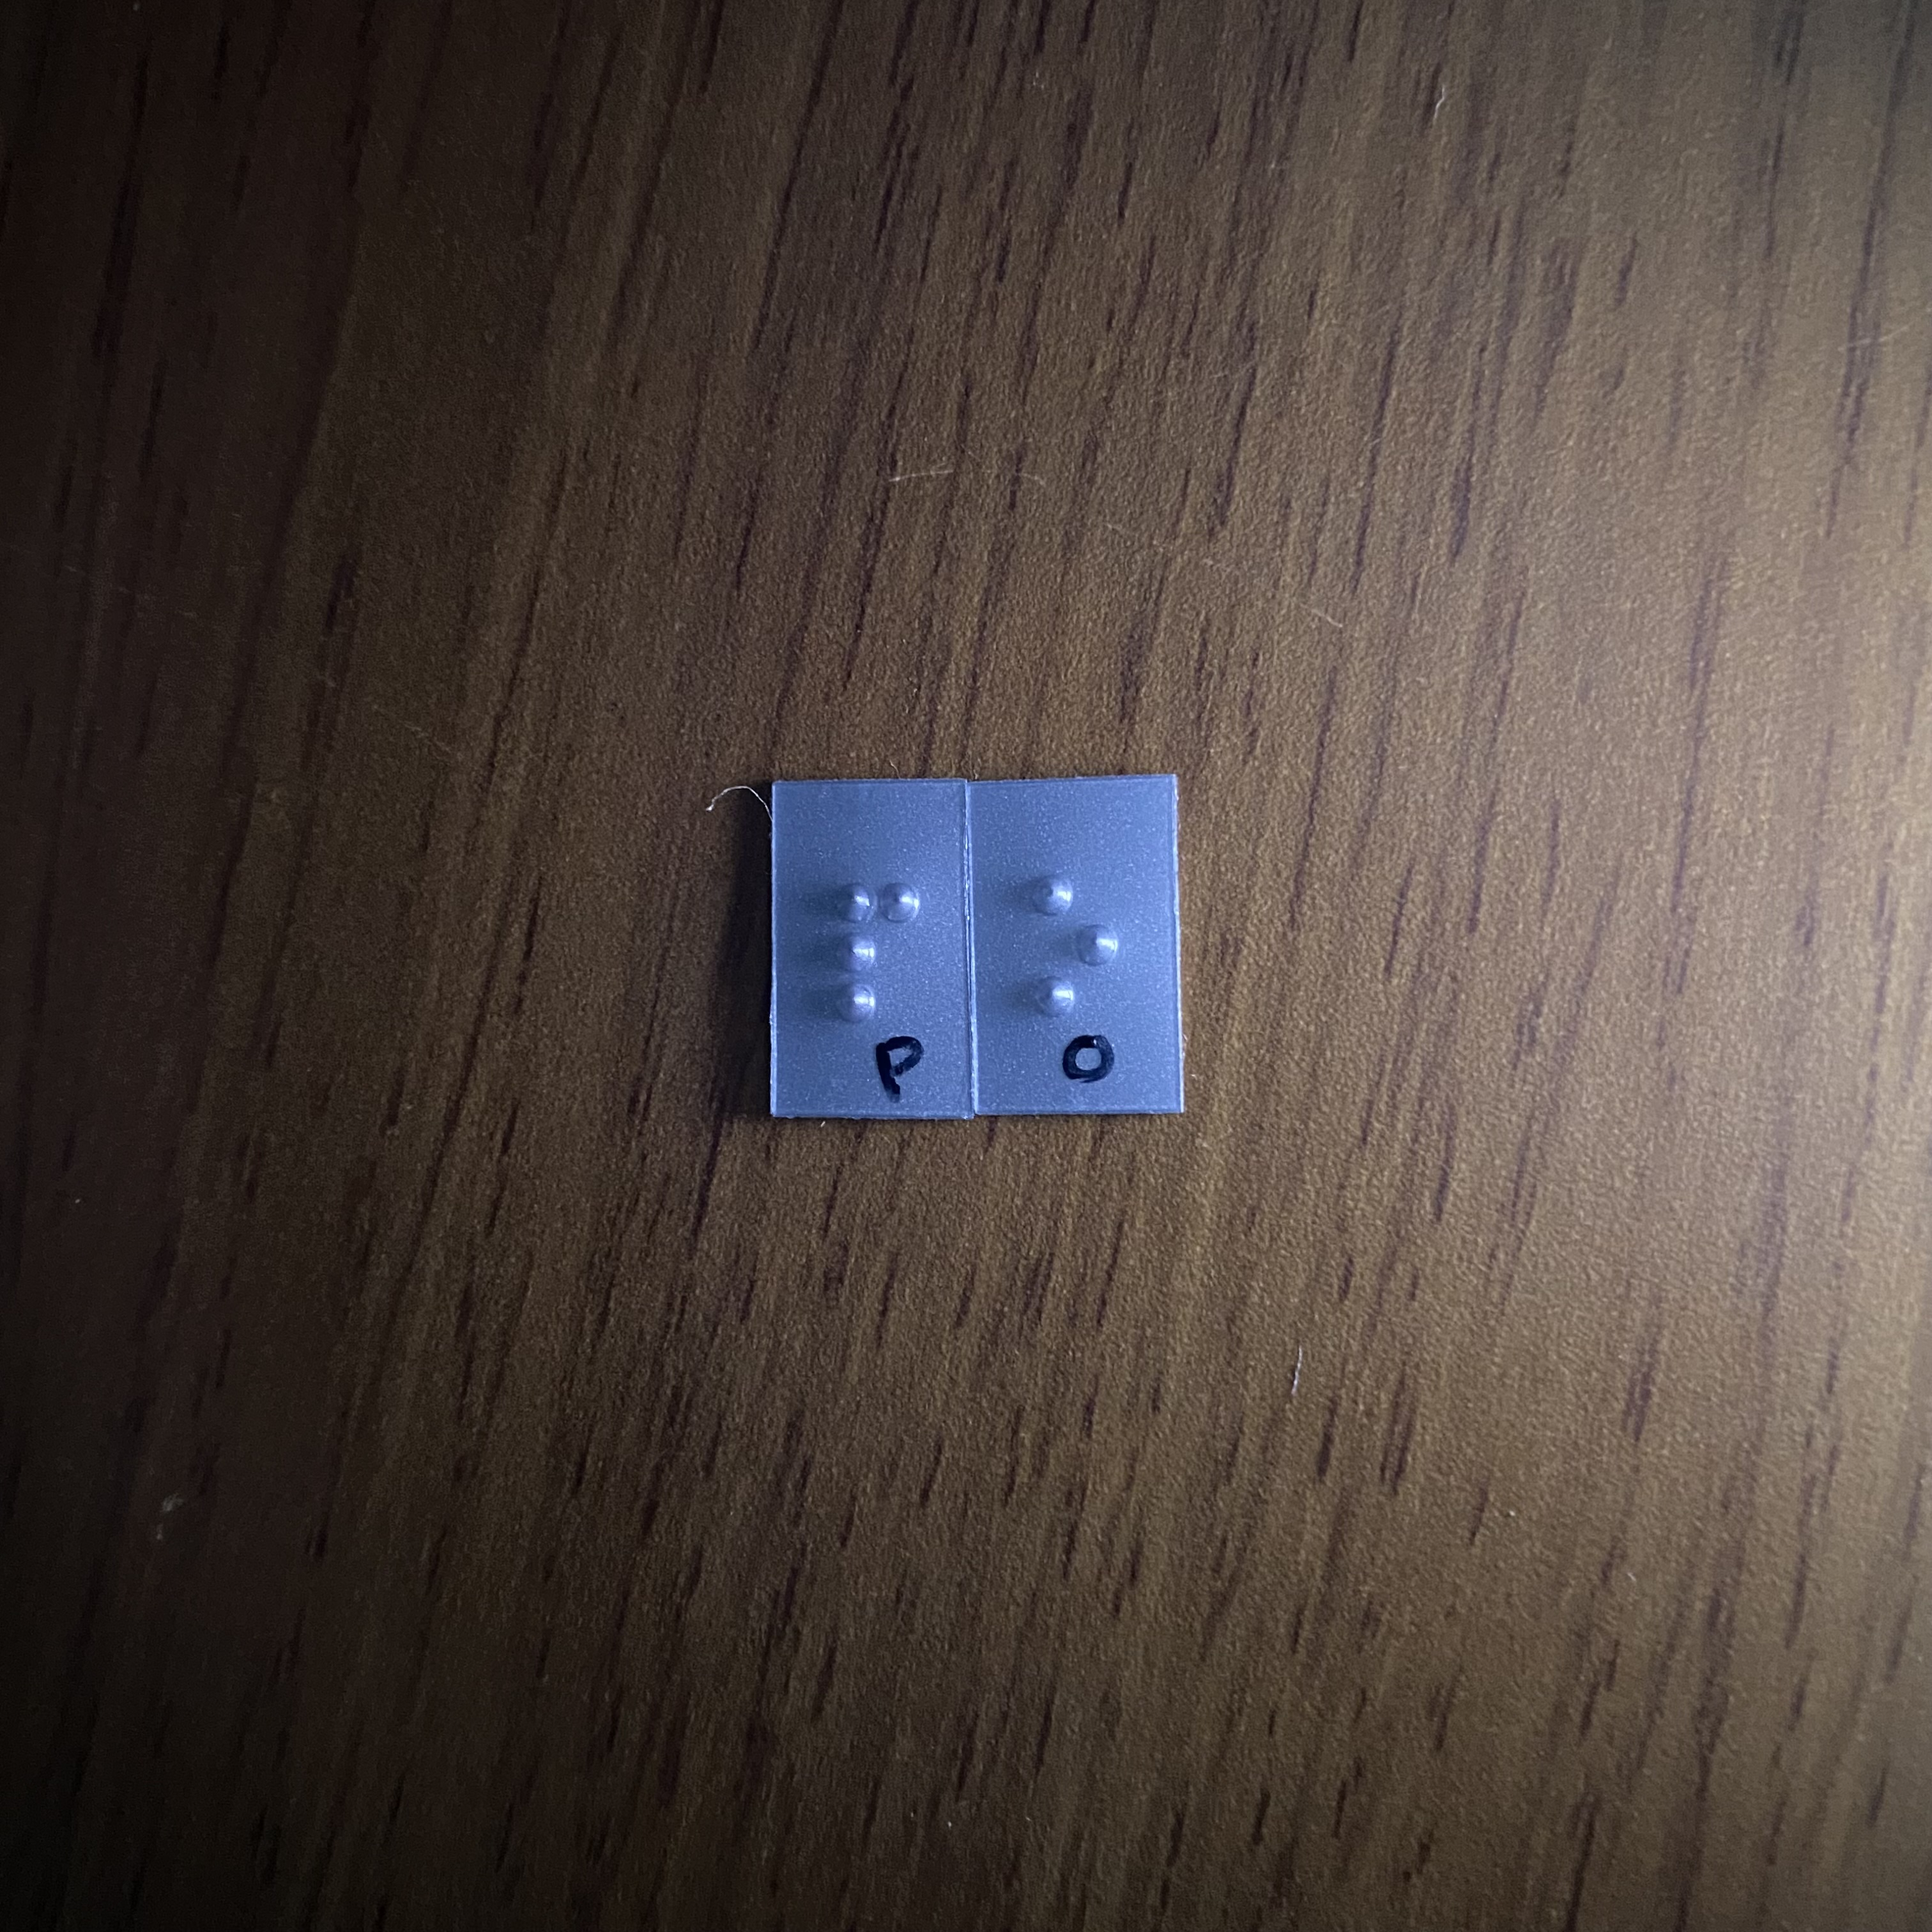o: (1005, 870, 1126, 1029)
p: (807, 875, 930, 1039)
